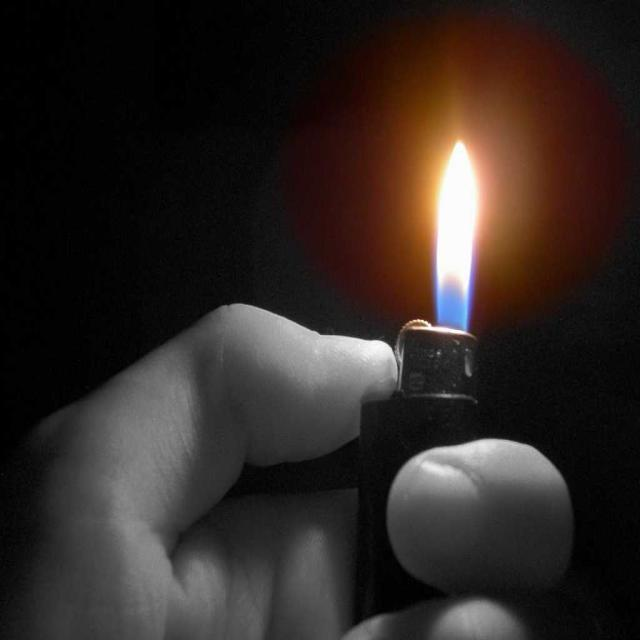Fire: (430, 180, 470, 280)
